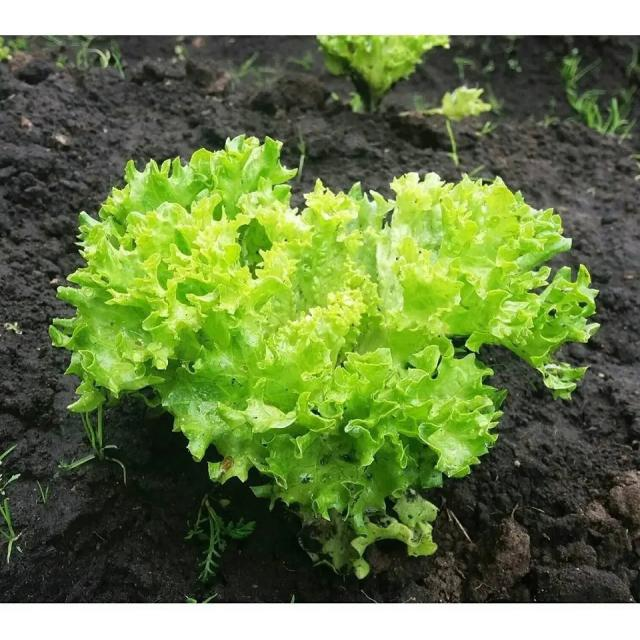inmadura: (49, 136, 597, 577)
